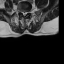CCS_normal: (23, 9, 25, 17)
LFS_stenosis: (27, 9, 29, 14)
LLS_normal: (25, 10, 27, 16)
RFS_normal: (20, 8, 22, 14)
RLS_normal: (22, 9, 23, 16)
